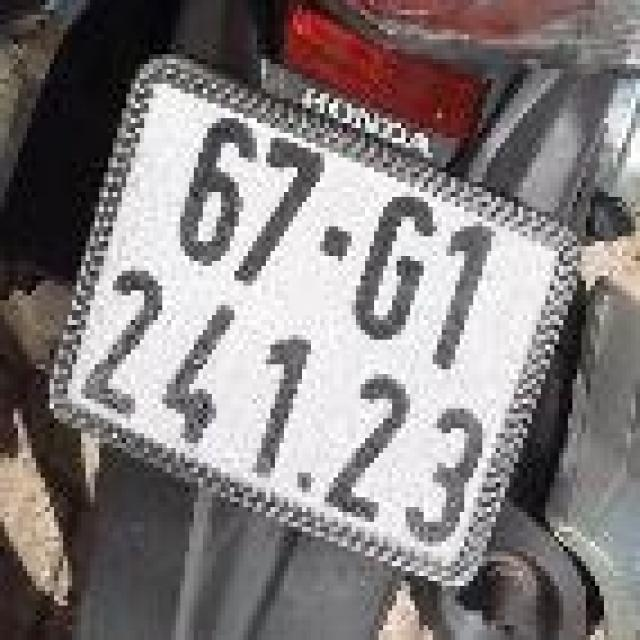1: (413, 206, 514, 385), (231, 323, 332, 492)
2: (314, 350, 434, 536), (71, 253, 192, 428)
3: (396, 388, 501, 565)
4: (146, 286, 272, 461)
6: (164, 106, 276, 281)
7: (224, 128, 346, 303)
G: (336, 177, 458, 363)
